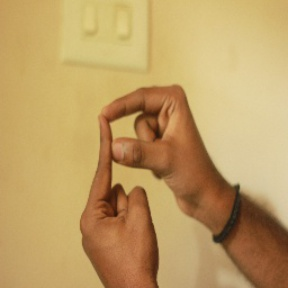P: (72, 78, 199, 241)
